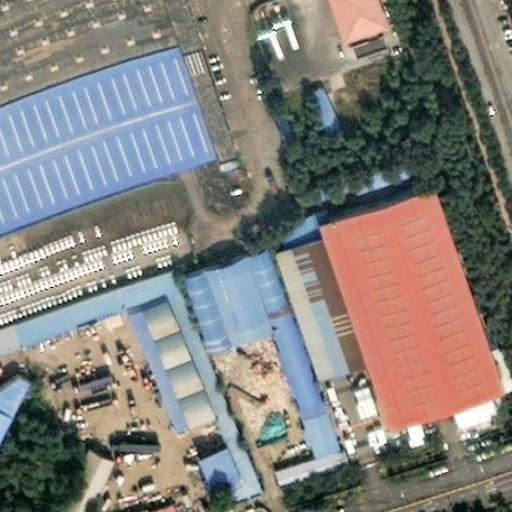building: (312, 158, 500, 403), (0, 11, 232, 201), (169, 228, 341, 471), (264, 210, 363, 361), (188, 394, 253, 495), (291, 140, 406, 197), (45, 432, 101, 512), (258, 193, 316, 228), (449, 393, 501, 431), (307, 81, 342, 136), (446, 374, 490, 404), (347, 30, 388, 58), (80, 493, 139, 512), (331, 0, 384, 18), (77, 369, 114, 394), (343, 15, 378, 38), (115, 437, 160, 453), (139, 491, 170, 512), (100, 499, 142, 512)
